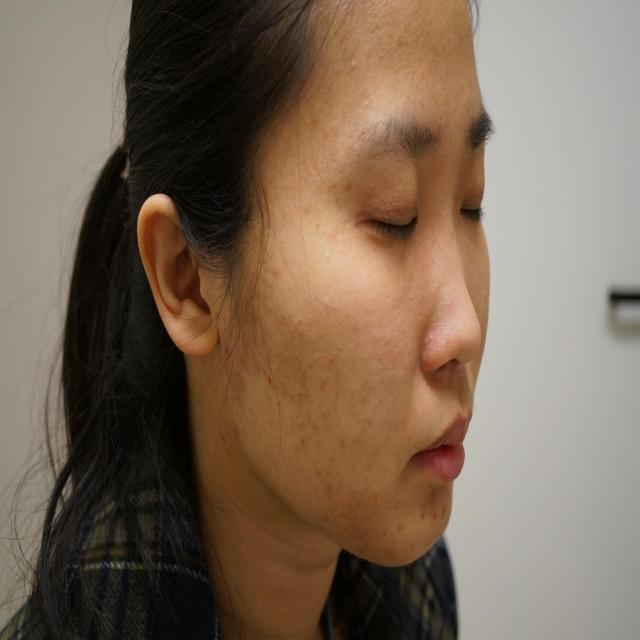pustule: (314, 475, 340, 513), (218, 332, 242, 369), (321, 345, 343, 377), (295, 354, 315, 386), (415, 495, 432, 529), (433, 496, 448, 524)
